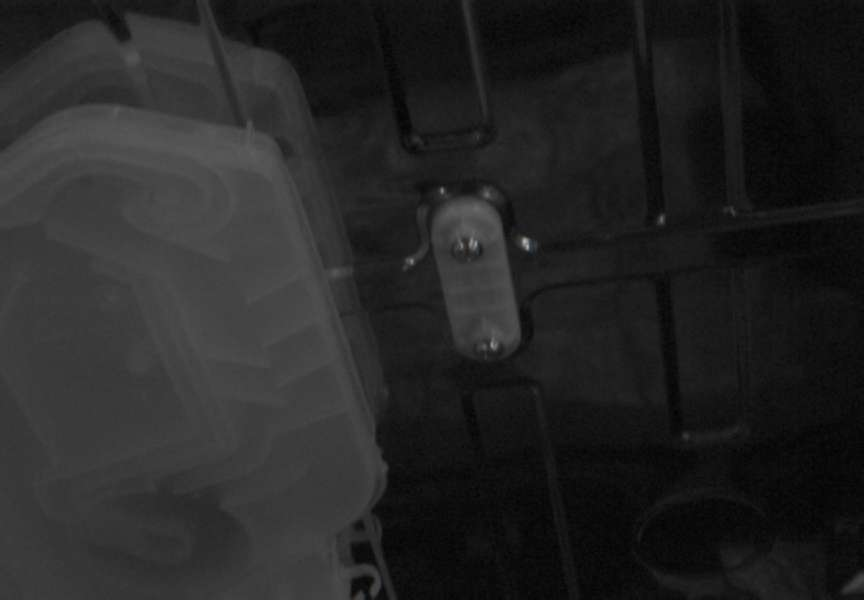screw: (451, 236, 483, 263), (474, 337, 504, 361)
